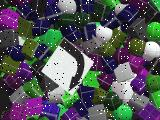Right: (41, 38, 94, 96)
